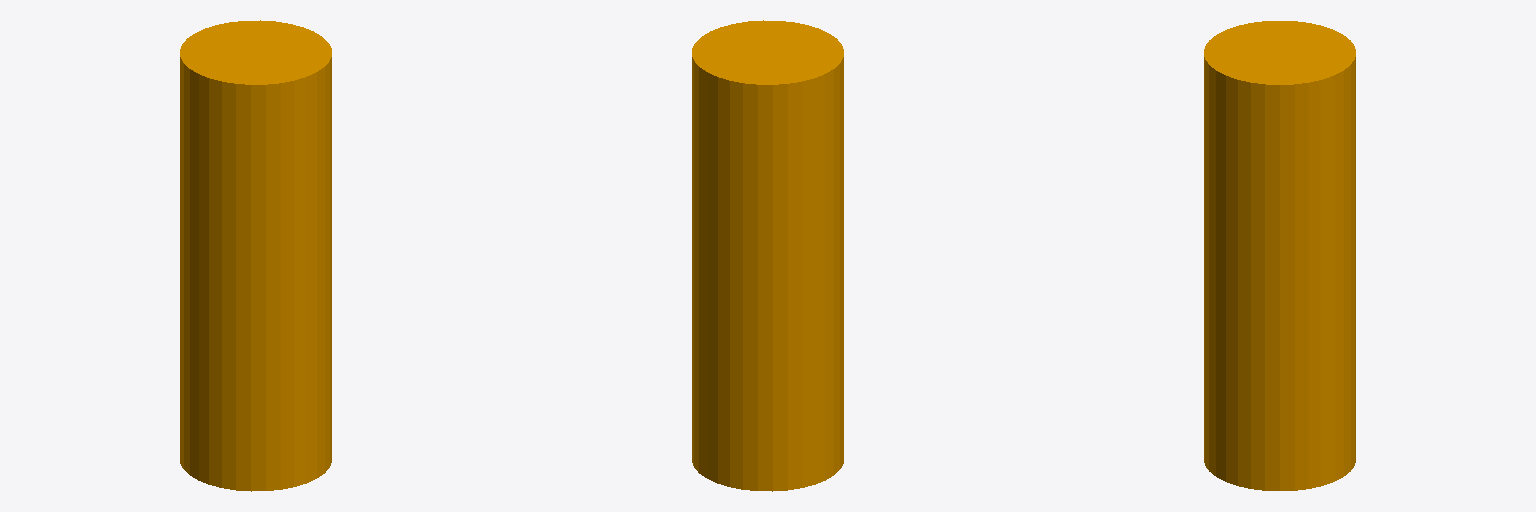
URDF robot description (weiquan):
<robot name="weiquan">
  <link name="link">
    <inertial>
      <origin xyz="0 0 0" />
      <mass value="0.1" />
      <!-- (1/12)*mass*(h^2)  (1/12)*mass*(h^2) (1/2)*mass*(r^2) -->
      <inertia  ixx="0.000151875" ixy="0.0"  ixz="0.0"  iyy="0.000151875"  iyz="0.0"  izz="0.00002645" />
    </inertial>
    <visual>
      <origin xyz="0 0 0"/>
      <geometry>
        <cylinder length="0.135" radius="0.023"/>
      </geometry>
    </visual>
    <collision>
      <origin xyz="0 0 0"/>
      <geometry>
        <cylinder length="0.135" radius="0.023"/>
      </geometry>
    </collision>
  </link>
  <gazebo reference="link">
    <material>Gazebo/Green</material>
    <mu1>1000</mu1>
    <mu2>1000</mu2>
    <maxVel>0.0</maxVel>
    <minDepth>0.0001</minDepth>
    <turnGravityOff>0</turnGravityOff>
  </gazebo>
</robot>

--- Facts derived from the render (not from the file) ---
The picture shows the robot from 3 angles, left to right: view 1: azimuth 30°, elevation 25°; view 2: azimuth 150°, elevation 25°; view 3: azimuth 270°, elevation 25°; orthographic projection.
Robot: weiquan — 1 links, 0 joints (none); root link link; default pose: all joints at 0.
Links seen in each view (by area): view 1: link; view 2: link; view 3: link.
Link boxes in pixels (<box>): link: <box>180,20,331,491</box>; link: <box>692,20,843,491</box>; link: <box>1204,21,1355,490</box>.
Size in the robot's own frame: 0.046 by 0.046 by 0.135 metres.
Geometry: primitives only (box / cylinder / sphere), no mesh files.
